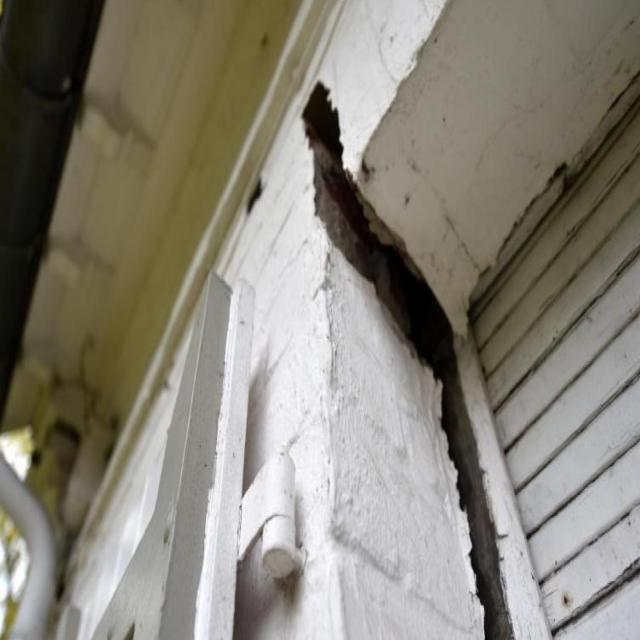crack: (301, 77, 515, 637)
